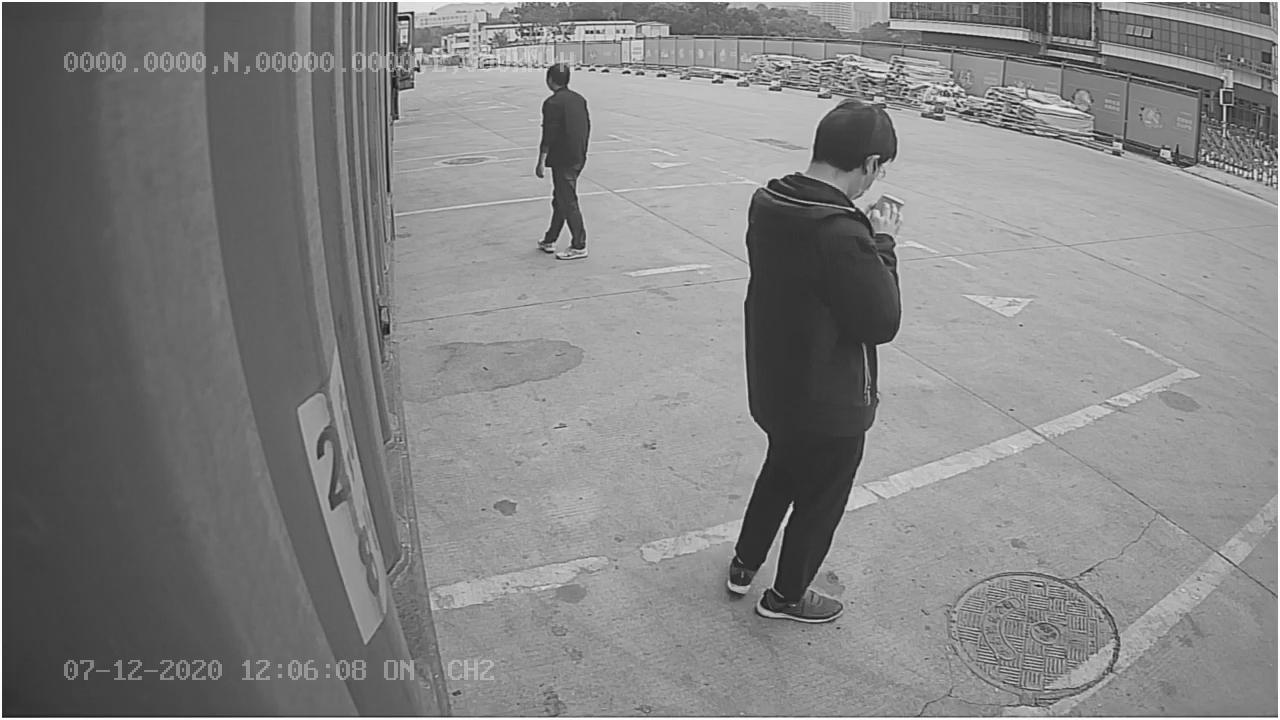person: (719, 96, 914, 623)
